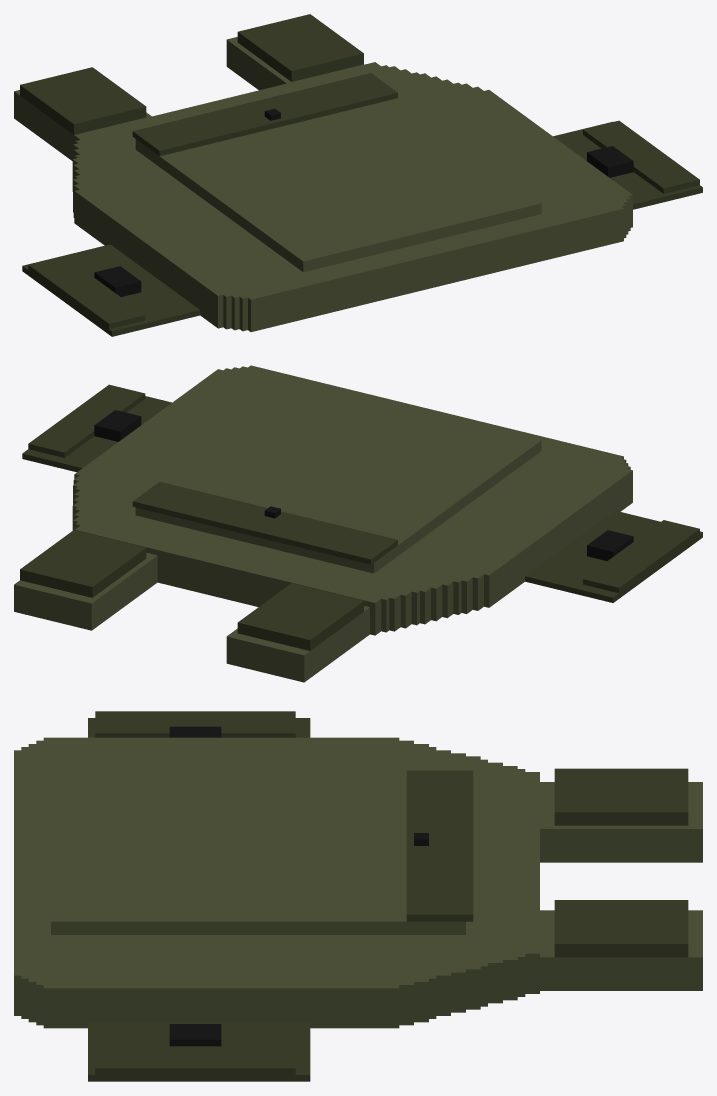
Rendered from level_3_vest.glb.
The picture shows the model from 3 angles, top to bottom: view 1: azimuth 30°, elevation 25°; view 2: azimuth 150°, elevation 25°; view 3: azimuth 270°, elevation 25°; orthographic projection. The views are drawn at different scales.
Parts seen in each view (by area): view 1: level_3_vest:compound; view 2: level_3_vest:compound; view 3: level_3_vest:compound.
Part boxes in pixels (left/top/right/bottom): level_3_vest:compound: left=14, top=14, right=702, bottom=336; level_3_vest:compound: left=14, top=365, right=702, bottom=682; level_3_vest:compound: left=14, top=711, right=702, bottom=1081.
Bounding box in the file's own units: 0.684 × 0.06 × 0.558.
